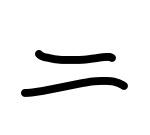eqv: (15, 48, 132, 99)
